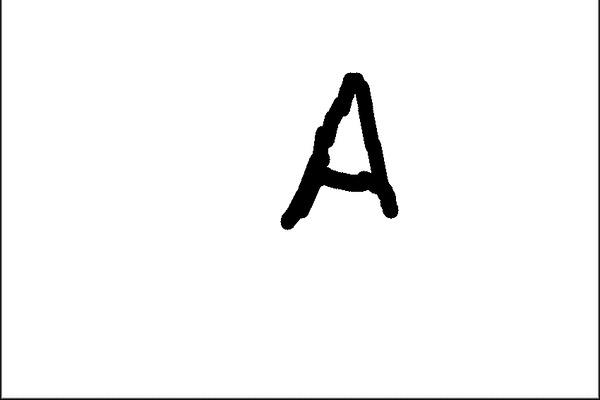A: (276, 57, 404, 232)
